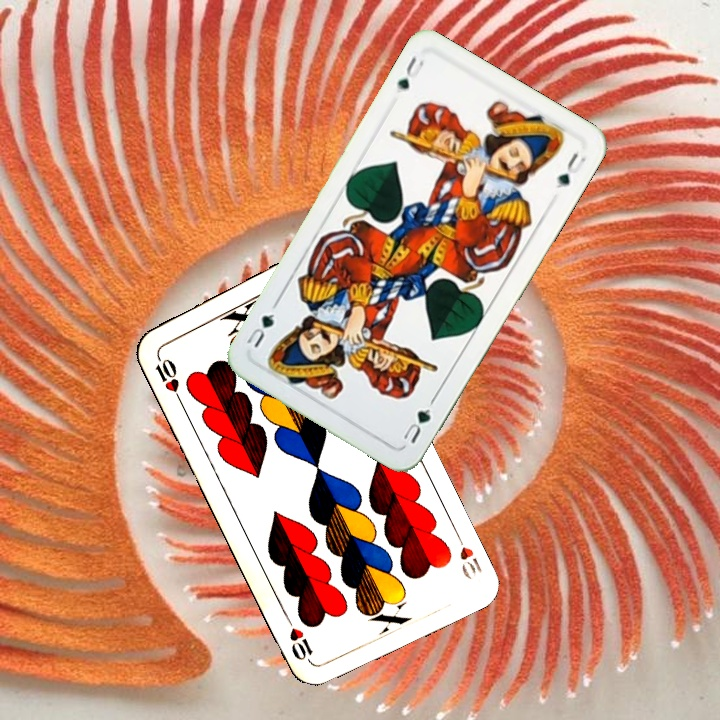GU: (397, 404, 434, 446), (392, 52, 427, 93)
H10: (450, 526, 485, 582), (151, 349, 185, 405)
